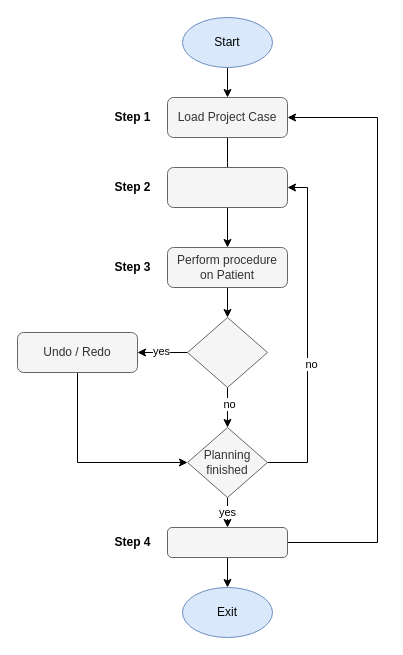
Some shapes in this 403 by 655 pixel diagram are drawn without their labels. Here are the shapes that lost their labels. From the top down, the centre of each, then its label:
At point (227, 187): "Select Surgical Instrument".
At point (227, 352): "Check for error".
At point (227, 542): "Save Project Case".
